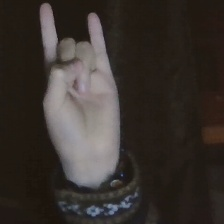U: (27, 1, 130, 161)
